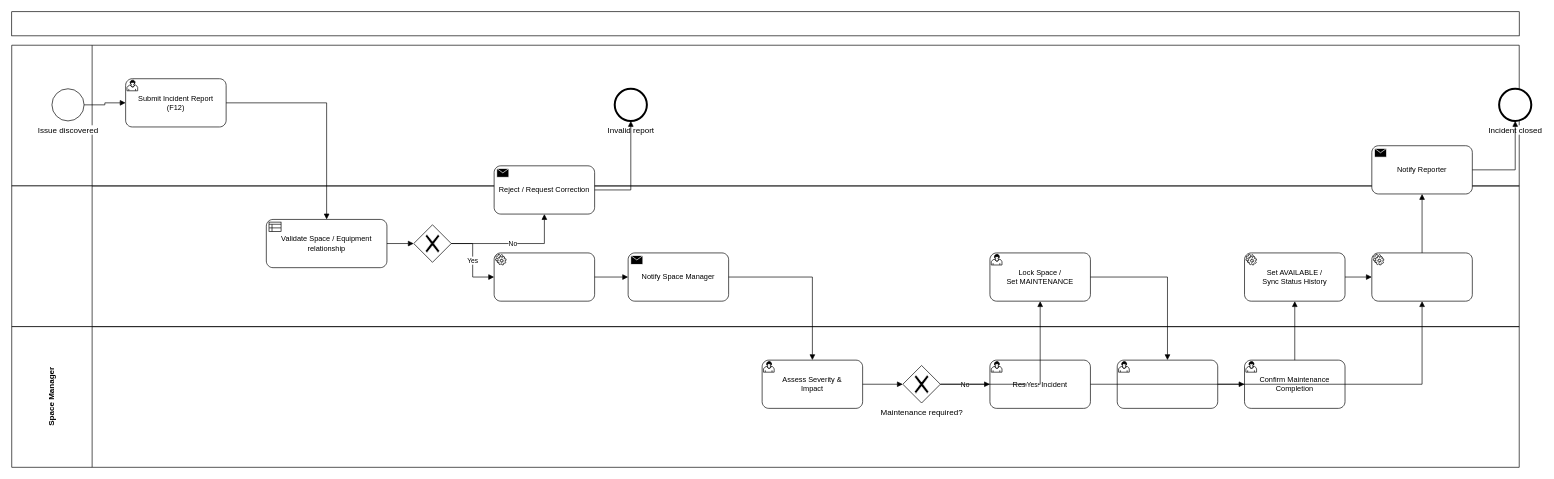
Image size: 1554x479. Some labels were removed from this diagram. Each missing label, with the box of its shape:
Campus Space Management Process: (11, 11, 1519, 36)
Campus Space System: (11, 185, 1519, 327)
Close Incident / Record Outcome: (1371, 252, 1472, 301)
Create Incident & Audit Record: (493, 252, 595, 301)
Perform / Coordinate Maintenance: (1117, 359, 1218, 408)
Student / Lecturer: (11, 45, 1519, 186)
Valid report?: (413, 224, 451, 262)
